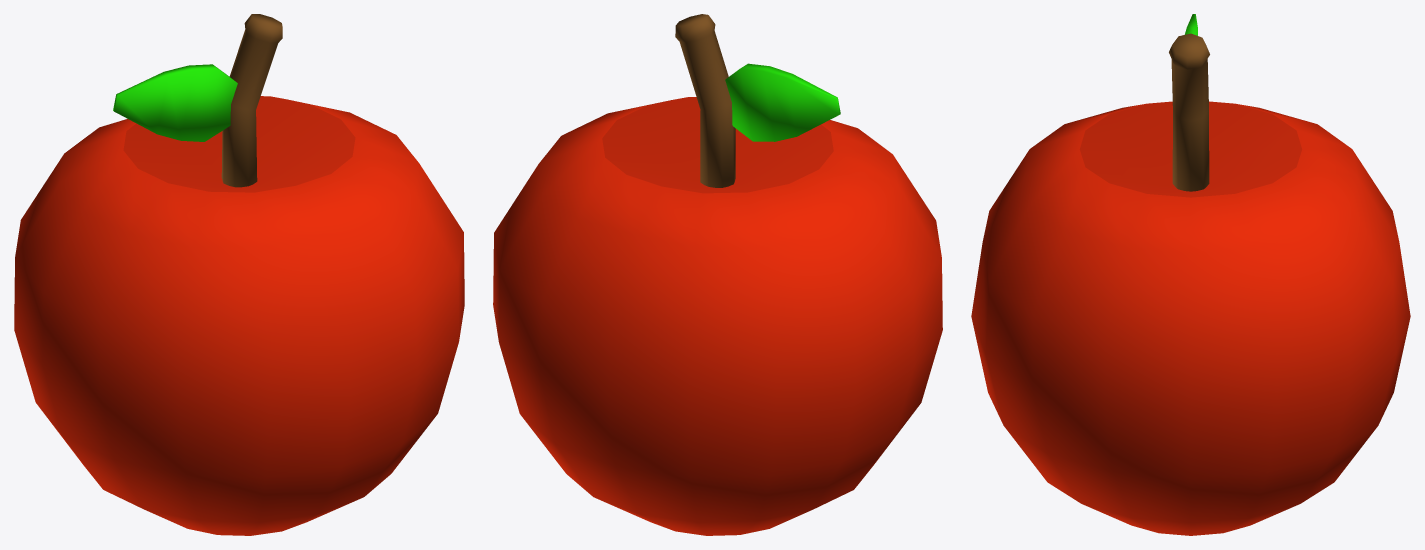
Rendered from Apple.glb.
3 views of the same model, side by side, from view 1: azimuth 30°, elevation 25°; view 2: azimuth 150°, elevation 25°; view 3: azimuth 270°, elevation 25° (orthographic).
Visible parts, largest first — view 1: AppleMesh; view 2: AppleMesh; view 3: AppleMesh.
Part boxes in pixels (bbox=[...]): AppleMesh: bbox=[14, 14, 464, 535]; AppleMesh: bbox=[493, 14, 942, 535]; AppleMesh: bbox=[971, 14, 1410, 535].
Size of the model in its own units: 1.75 by 2.1 by 1.71.
